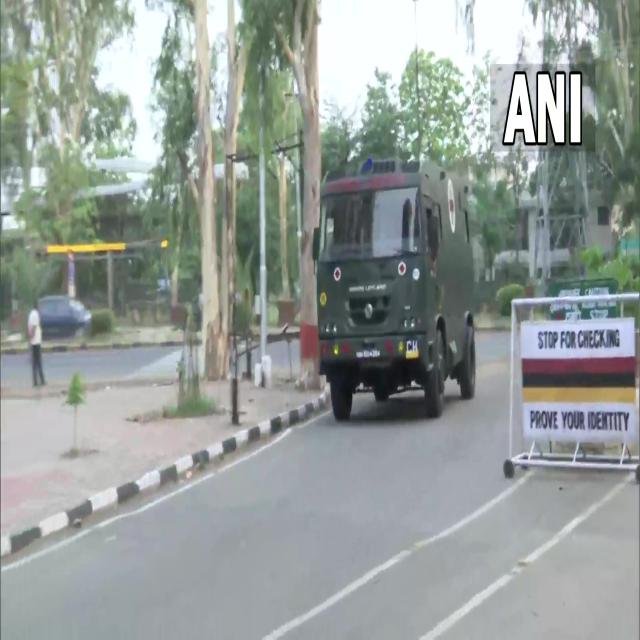bus: (318, 160, 476, 420)
